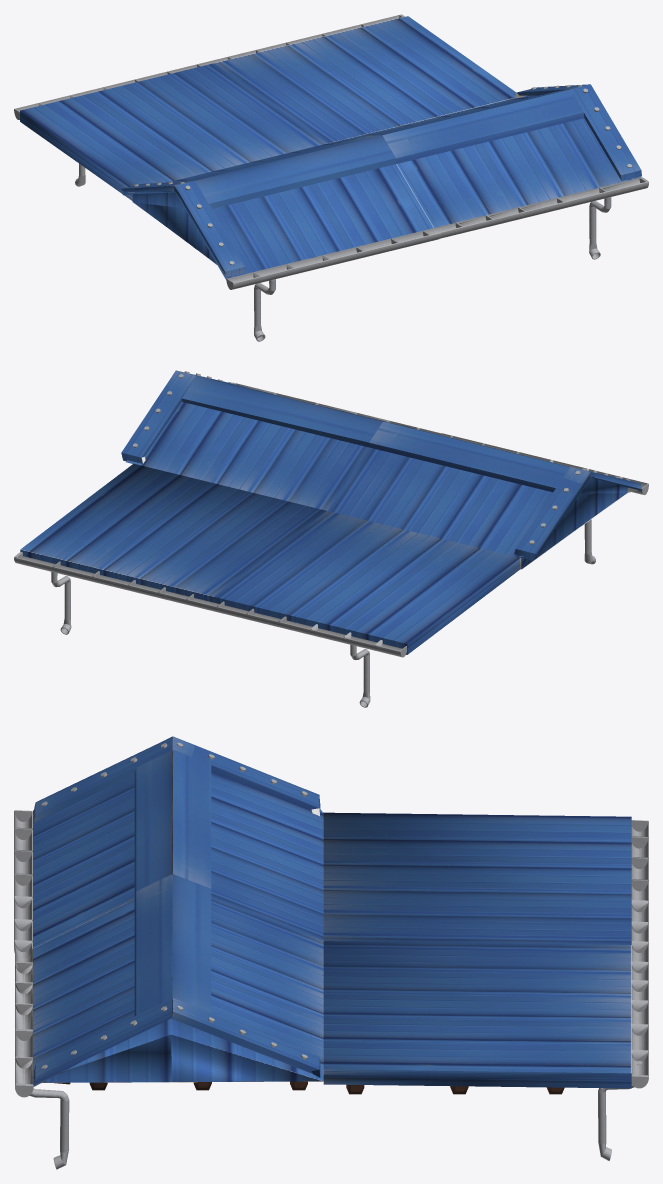
The model's file is ev çatısı süslenmiş.fbx.
3 renders of one model, top to bottom at view 1: azimuth 30°, elevation 25°; view 2: azimuth 150°, elevation 25°; view 3: azimuth 270°, elevation 25°, orthographic. The views are drawn at different scales.
Visible parts, largest first — view 1: Plane.003, Plane.085, Plane.001; view 2: Plane.003, Plane.085, Plane.001; view 3: Plane.003, Plane.001, Plane.085.
Part boxes in pixels (x1,y1,x2,y2): Plane.003: [14, 14, 516, 200]; Plane.085: [121, 135, 440, 341]; Plane.001: [328, 84, 648, 259]; Plane.003: [14, 463, 520, 707]; Plane.085: [328, 421, 648, 569]; Plane.001: [121, 370, 441, 510]; Plane.003: [323, 812, 648, 1160]; Plane.001: [15, 874, 323, 1169]; Plane.085: [14, 736, 323, 958].
Size of the model in its own units: 1600 by 494 by 1557.
1 material, 1 textured.
